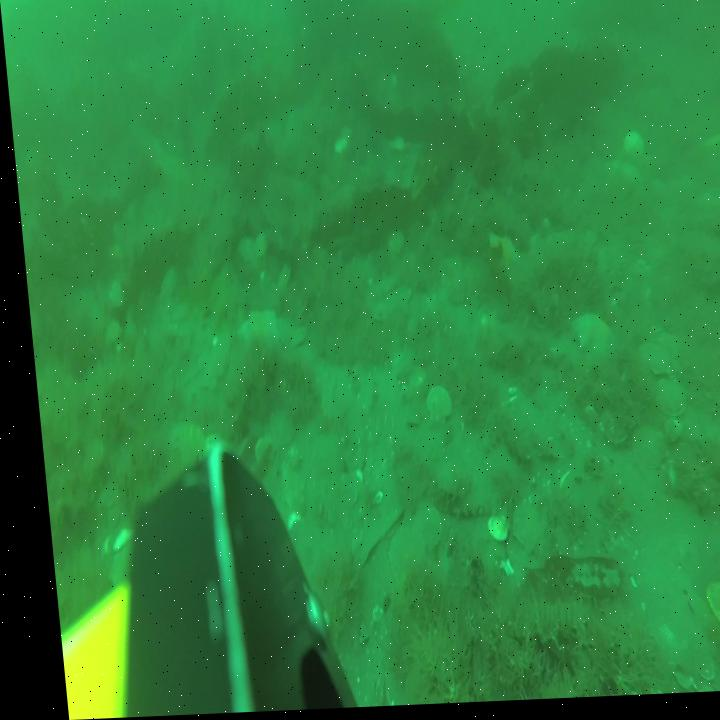scallop: (376, 533, 418, 587), (691, 581, 720, 652), (400, 503, 437, 556), (499, 506, 536, 558), (621, 430, 660, 478), (628, 344, 668, 389), (589, 406, 626, 454), (415, 383, 447, 434), (643, 381, 680, 424), (258, 407, 291, 453), (243, 433, 270, 472), (619, 131, 645, 169), (381, 228, 403, 264), (100, 278, 123, 311), (96, 320, 118, 353), (476, 517, 499, 547), (281, 324, 301, 358), (230, 237, 251, 266), (270, 263, 288, 293), (247, 232, 264, 259)
starfish: (227, 305, 279, 359), (565, 311, 610, 364)
